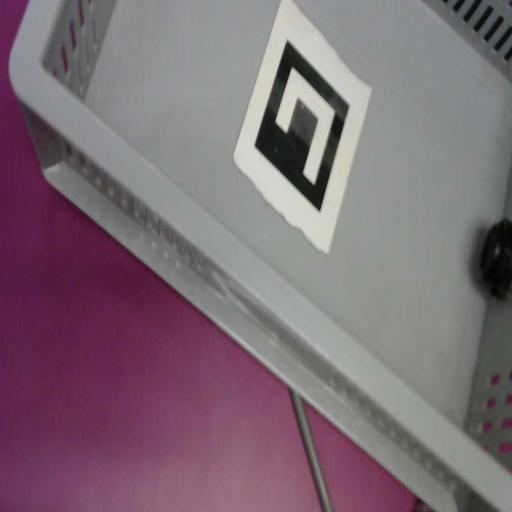QR: (252, 38, 350, 214)
